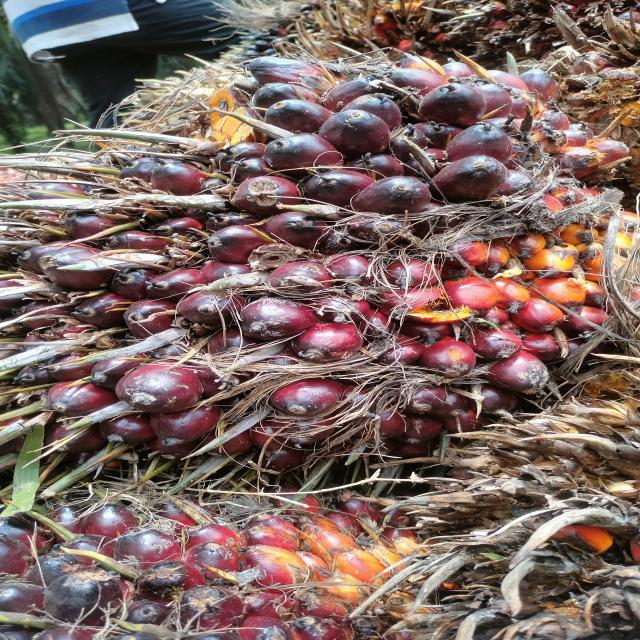fraksi 1: (10, 38, 620, 500)
